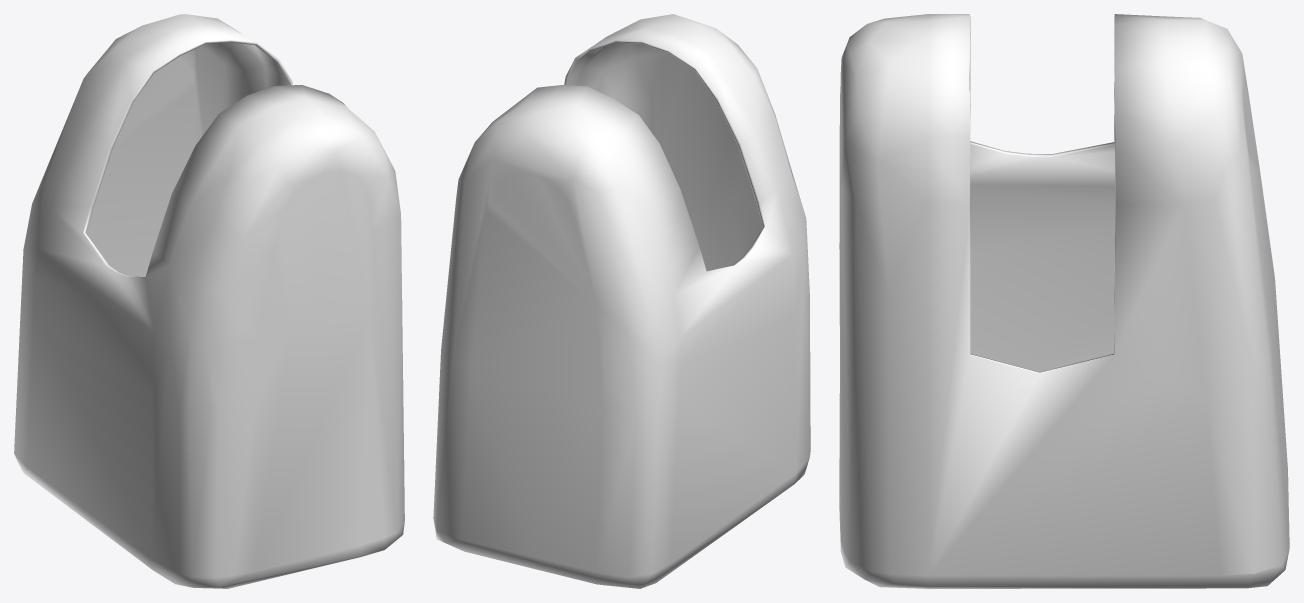
The model's file is arm_roll_light.dae.
The picture shows the model from 3 angles, left to right: view 1: azimuth 30°, elevation 25°; view 2: azimuth 150°, elevation 25°; view 3: azimuth 270°, elevation 25°; orthographic projection. The views are drawn at different scales.
Visible parts, largest first — view 1: Arm_Roll; view 2: Arm_Roll; view 3: Arm_Roll.
Boxes of the visible parts, left/top/right/bottom form: Arm_Roll: left=14, top=14, right=404, bottom=588; Arm_Roll: left=433, top=14, right=810, bottom=588; Arm_Roll: left=839, top=14, right=1289, bottom=588.
Bounding box in the file's own units: 0.0765 × 0.109 × 0.1367.
Materials: 1 (1 with a texture image).
